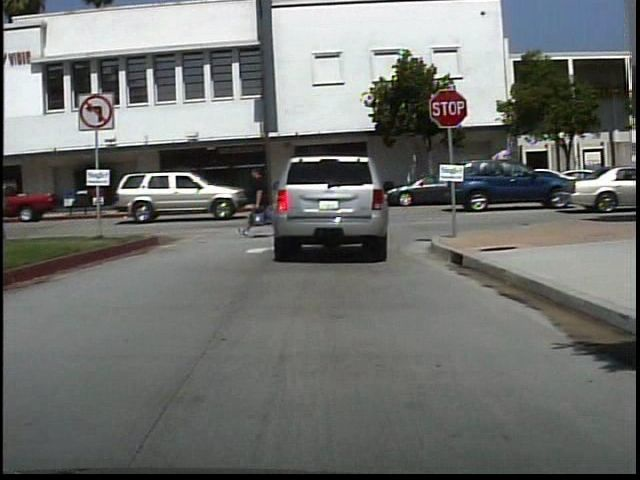person: (246, 160, 278, 236), (115, 171, 139, 210), (142, 171, 161, 209)
